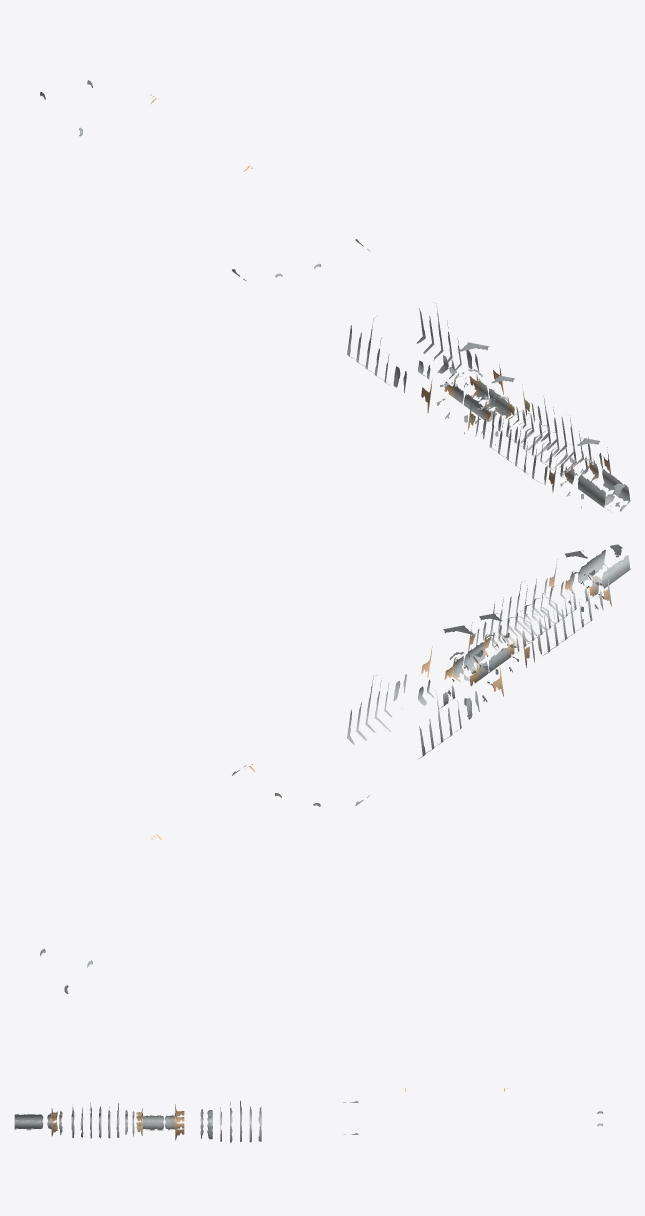
File: wp_rifle_lightning_cannon_l1.fbx
3 views of the same model, one above another, from view 1: azimuth 30°, elevation 25°; view 2: azimuth 150°, elevation 25°; view 3: azimuth 270°, elevation 25° (orthographic). The views are drawn at different scales.
Visible parts, largest first — view 1: mesh_node; view 2: mesh_node; view 3: mesh_node.
Part boxes in pixels (x1=…): mesh_node: x1=40, y1=80, x2=630, y2=511; mesh_node: x1=40, y1=544, x2=630, y2=993; mesh_node: x1=14, y1=1088, x2=603, y2=1142.
Size of the model in its own units: 0.1146 by 0.1816 by 0.914.
Materials: 1 (1 with a texture image).
